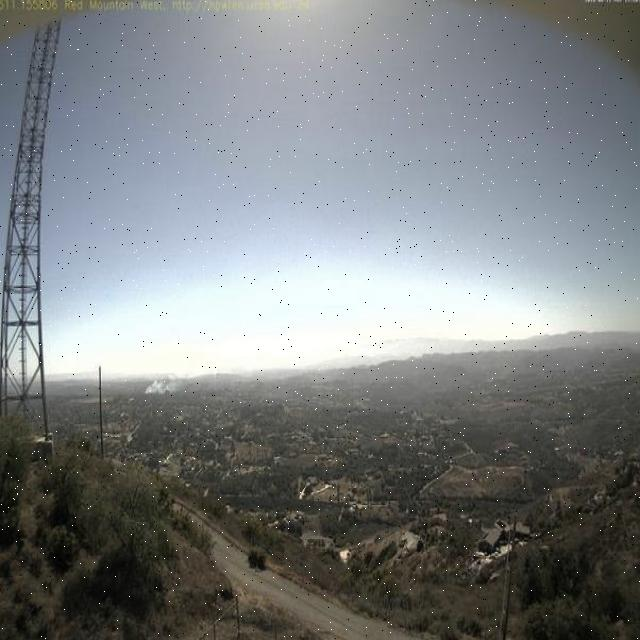smoke: (144, 364, 214, 396)
